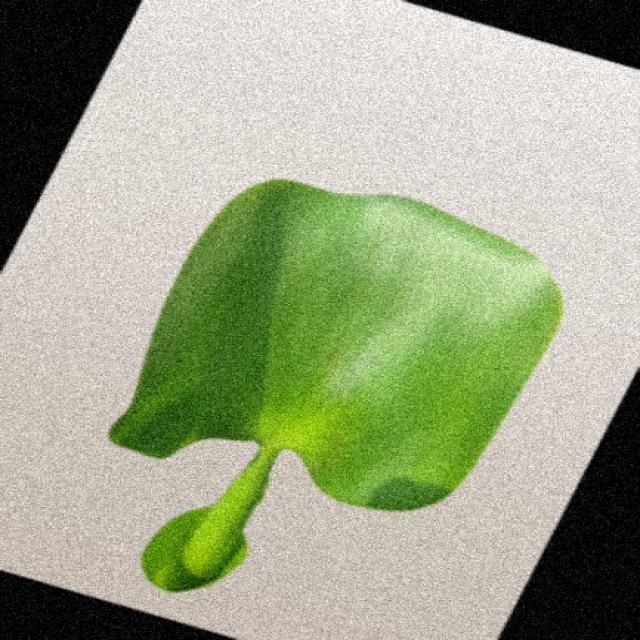daun sehat: (110, 180, 560, 591)
